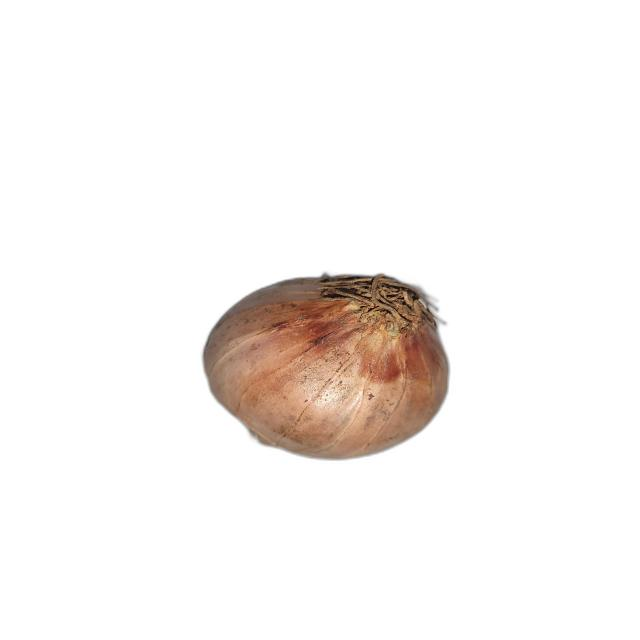onion: (202, 274, 449, 461)
